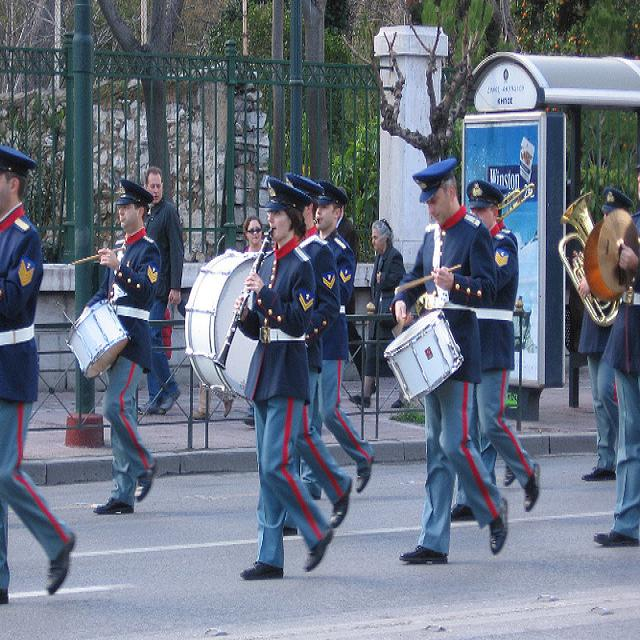clarinet: (213, 226, 275, 371)
